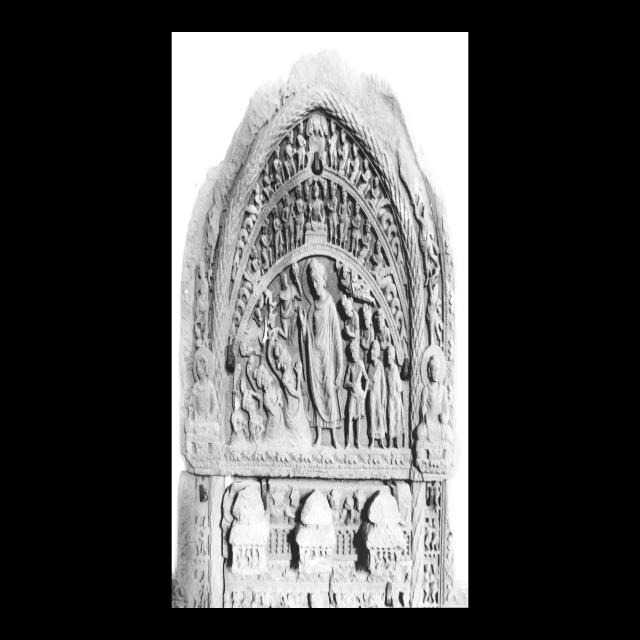buddha-sitting: (297, 260, 344, 449), (415, 344, 454, 474), (185, 346, 221, 464), (305, 182, 327, 245)
